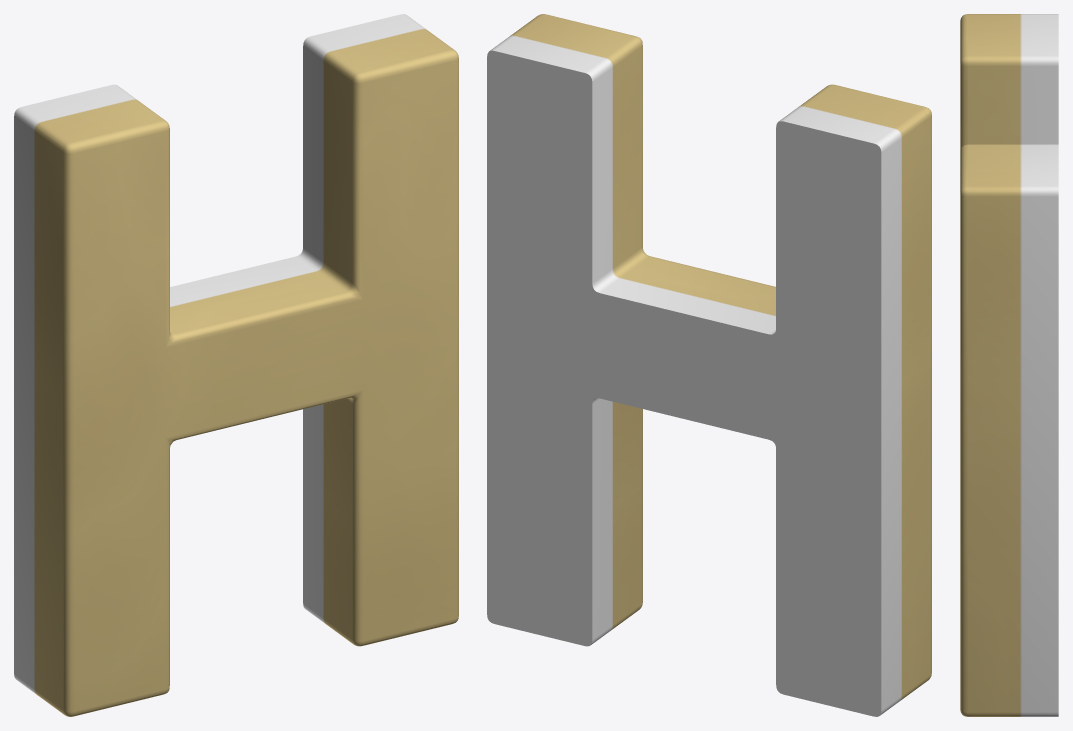
The model's file is LettersLightUp01_H.FBX.
3 renders of one model, left to right at view 1: azimuth 30°, elevation 25°; view 2: azimuth 150°, elevation 25°; view 3: azimuth 270°, elevation 25°, orthographic. The views are drawn at different scales.
Visible parts, largest first — view 1: LettersLightUp01_H; view 2: LettersLightUp01_H; view 3: LettersLightUp01_H.
Boxes of the visible parts, x1,y1,x2,y2 form: LettersLightUp01_H: (14,14,458,716); LettersLightUp01_H: (487,14,931,716); LettersLightUp01_H: (960,14,1058,716).
Size of what is drawn, in the model's own units: 0.4321 by 0.6001 by 0.1012.
